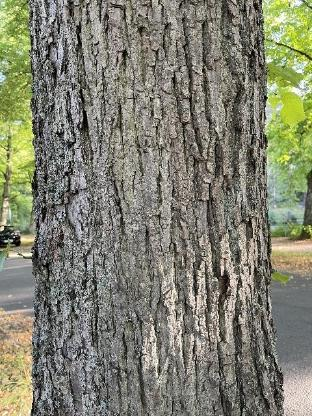tree: (21, 0, 290, 416)
